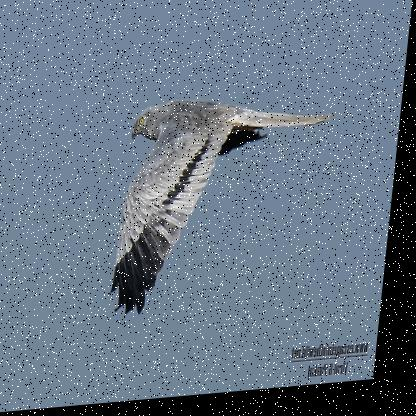Burung: (114, 89, 341, 329)
